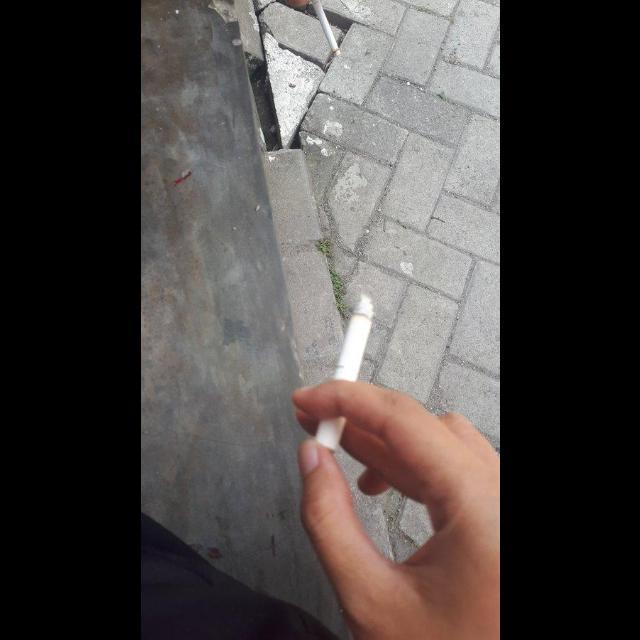rokok: (304, 288, 382, 452)
